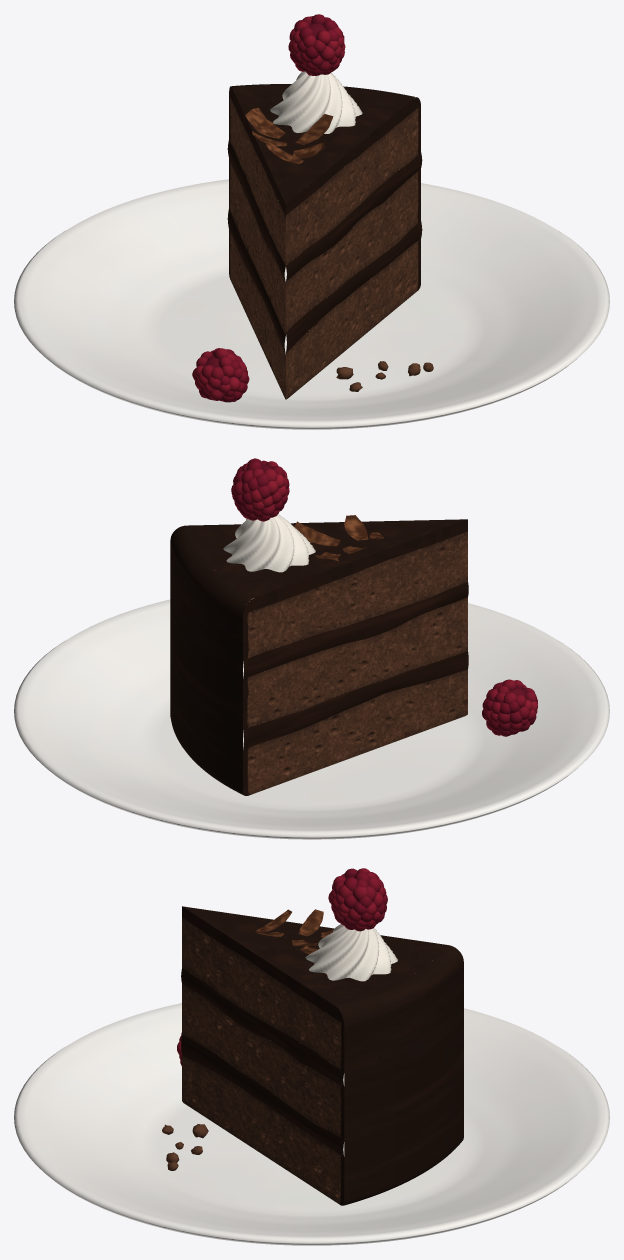
File: chocolate-cake.glb
3 renders of one model, top to bottom at view 1: azimuth 30°, elevation 25°; view 2: azimuth 150°, elevation 25°; view 3: azimuth 270°, elevation 25°, orthographic.
Visible parts, largest first — view 1: ceramic, crumb, satin, ganache, berry; view 2: ceramic, crumb, ganache, satin, berry; view 3: ceramic, ganache, crumb, satin, berry.
Boxes of the visible parts, left/top/right/bottom form: ceramic: left=14, top=179, right=609, bottom=429; crumb: left=229, top=94, right=433, bottom=399; satin: left=227, top=71, right=422, bottom=353; ganache: left=229, top=84, right=420, bottom=216; berry: left=192, top=14, right=345, bottom=402; ceramic: left=14, top=598, right=609, bottom=839; crumb: left=243, top=531, right=467, bottom=795; ganache: left=170, top=519, right=467, bottom=795; satin: left=223, top=514, right=468, bottom=749; berry: left=231, top=458, right=537, bottom=736; ceramic: left=14, top=1003, right=609, bottom=1245; ganache: left=182, top=906, right=463, bottom=1205; crumb: left=162, top=917, right=344, bottom=1205; satin: left=181, top=909, right=397, bottom=1157; berry: left=177, top=868, right=387, bottom=1065.
Bounding box in the file's own units: 0.2 × 0.1152 × 0.2.
5 materials, 5 textured.
